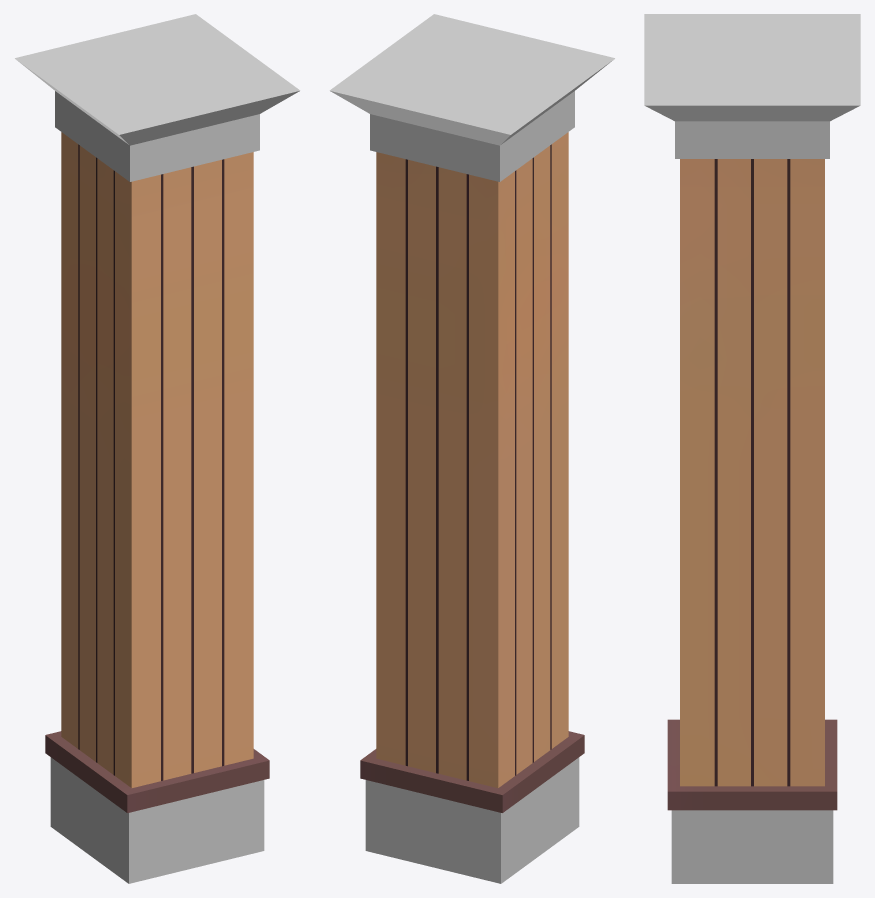
The picture shows the model from 3 angles, left to right: view 1: azimuth 30°, elevation 25°; view 2: azimuth 150°, elevation 25°; view 3: azimuth 270°, elevation 25°; orthographic projection. The views are drawn at different scales.
Parts seen in each view (by area): view 1: Lo-常用柱子_01; view 2: Lo-常用柱子_01; view 3: Lo-常用柱子_01.
Part boxes in pixels (x1,y1,x2,y2): Lo-常用柱子_01: (15,14,300,883); Lo-常用柱子_01: (329,14,614,883); Lo-常用柱子_01: (644,14,860,883).
Bounding box in the file's own units: 0.7456 × 3 × 0.7456.
Materials: 1 (1 with a texture image).
